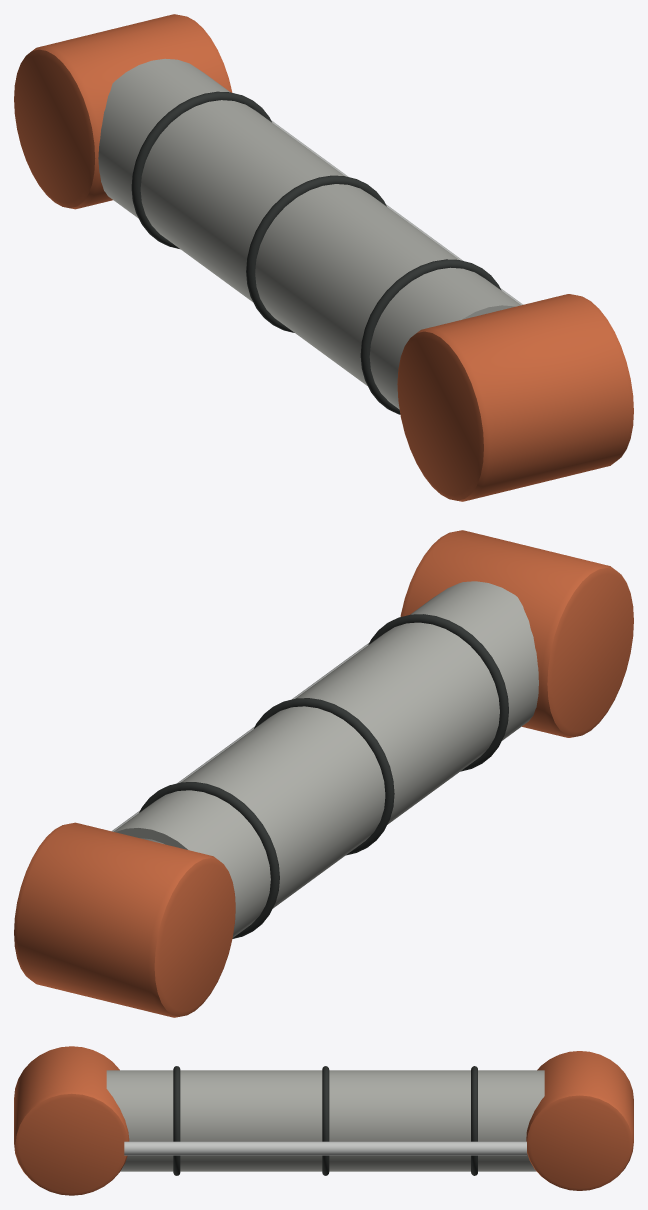
File: wall_extraction_arm_inner_arm.glb
The picture shows the model from 3 angles, top to bottom: view 1: azimuth 30°, elevation 25°; view 2: azimuth 150°, elevation 25°; view 3: azimuth 270°, elevation 25°; orthographic projection. The views are drawn at different scales.
Parts seen in each view (by area): view 1: wall_extraction_arm_inner_arm; view 2: wall_extraction_arm_inner_arm; view 3: wall_extraction_arm_inner_arm.
Boxes of the visible parts, box(x1,y1,x2,y2) form: wall_extraction_arm_inner_arm: box(14, 14, 633, 501); wall_extraction_arm_inner_arm: box(14, 530, 633, 1017); wall_extraction_arm_inner_arm: box(14, 1046, 633, 1195).
Bounding box in the file's own units: 0.149 × 0.132 × 0.708.
